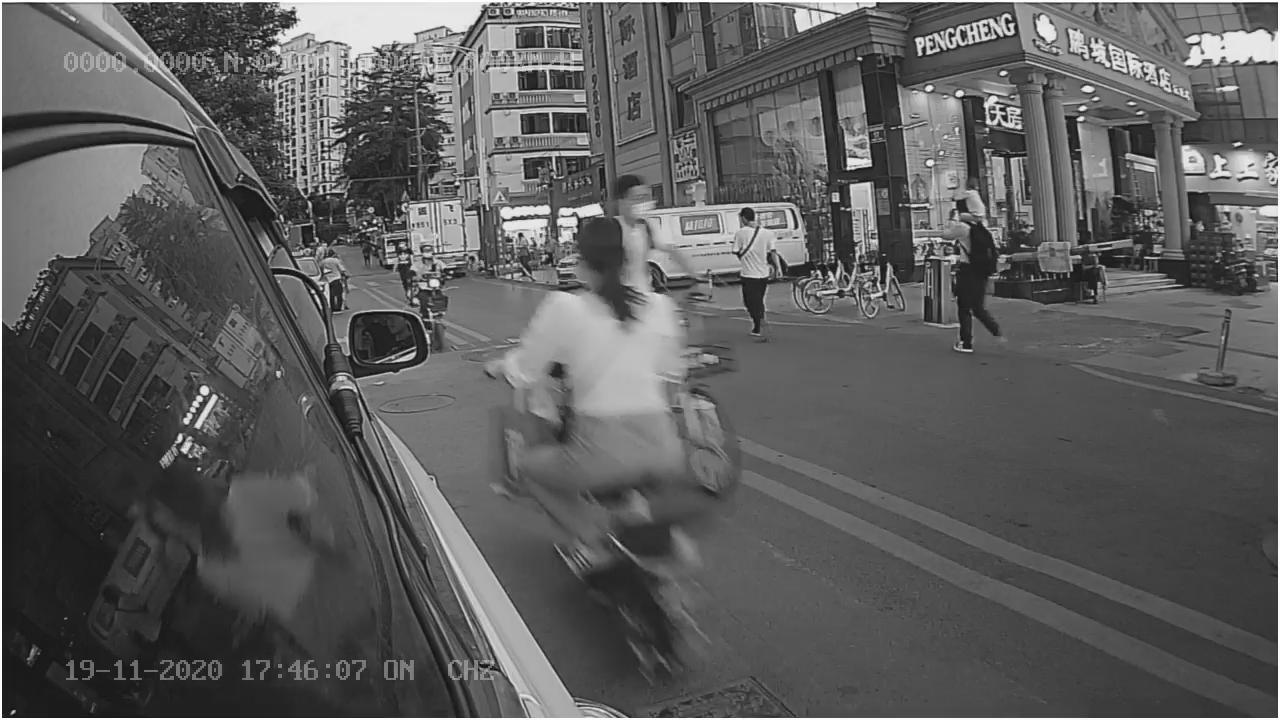person: (525, 211, 704, 511)
